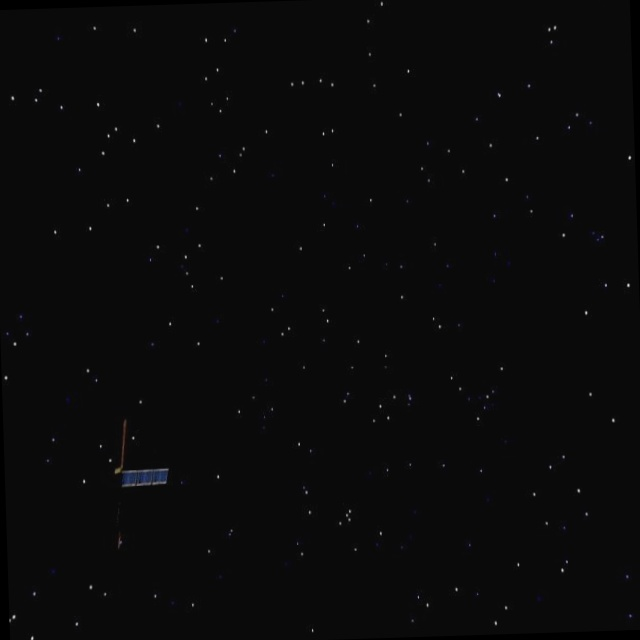medium_debris: (104, 404, 175, 556)
